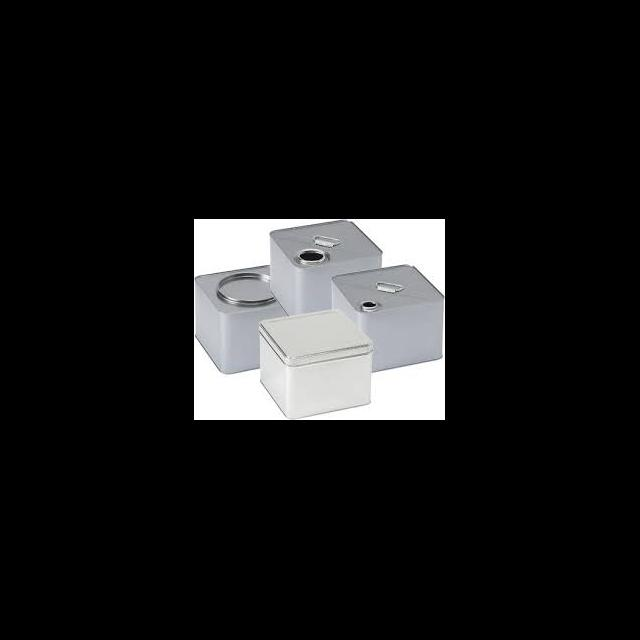metal: (258, 308, 374, 420), (332, 264, 442, 372), (270, 220, 382, 316), (195, 264, 284, 372)
